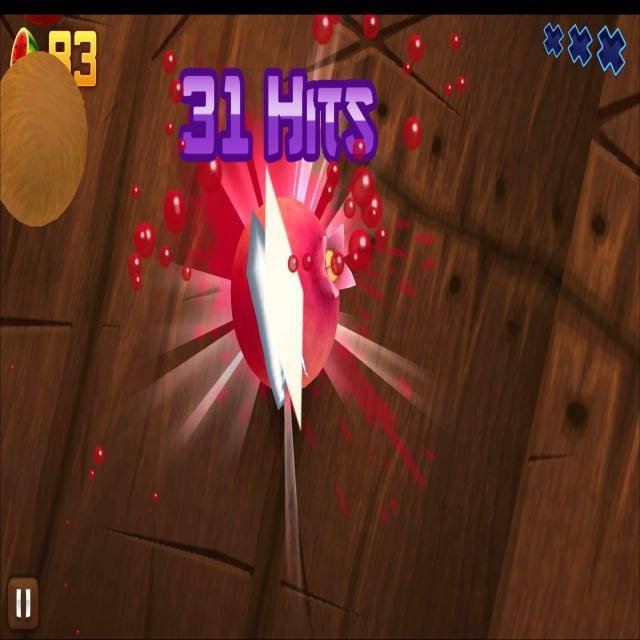fruit: (230, 195, 343, 392), (0, 51, 89, 227)
